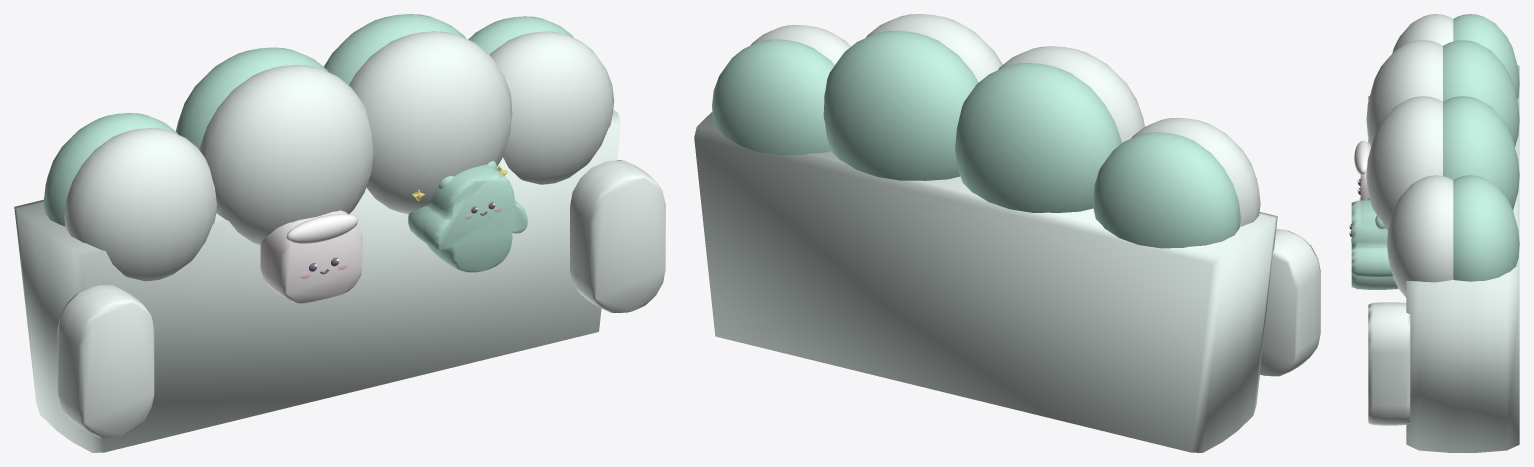
The model's file is decor_1_mint.glb.
The picture shows the model from 3 angles, left to right: view 1: azimuth 30°, elevation 25°; view 2: azimuth 150°, elevation 25°; view 3: azimuth 270°, elevation 25°; orthographic projection. The views are drawn at different scales.
Visible parts, largest first — view 1: decor_1_mint; view 2: decor_1_mint; view 3: decor_1_mint.
Boxes of the visible parts, x1=… form: decor_1_mint: x1=14, y1=14, x2=665, y2=452; decor_1_mint: x1=694, y1=14, x2=1320, y2=452; decor_1_mint: x1=1351, y1=14, x2=1519, y2=452.
Bounding box in the file's own units: 21.38 × 11.65 × 6.43.
